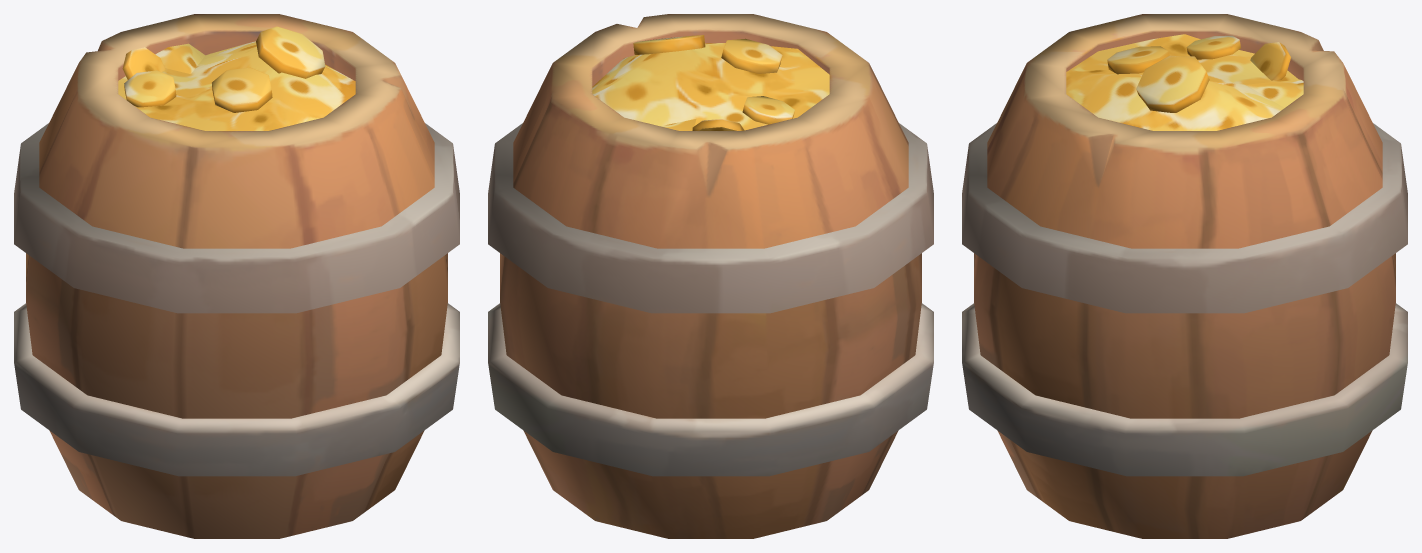
3 renders of one model, left to right at view 1: azimuth 30°, elevation 25°; view 2: azimuth 150°, elevation 25°; view 3: azimuth 270°, elevation 25°, orthographic.
Visible parts, largest first — view 1: SM_S20c; view 2: SM_S20c; view 3: SM_S20c.
Part boxes in pixels (x1=…): SM_S20c: x1=14, y1=14, x2=459, y2=538; SM_S20c: x1=488, y1=14, x2=933, y2=538; SM_S20c: x1=962, y1=14, x2=1407, y2=538.
Bounding box in the file's own units: 138 × 147 × 138.
